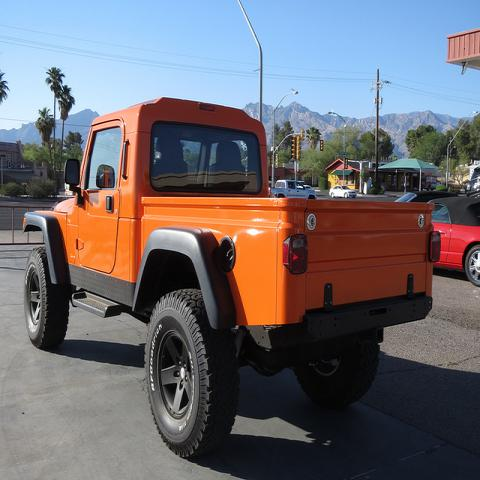car: (428, 196, 480, 287), (274, 178, 319, 197), (396, 191, 458, 203), (329, 185, 357, 199), (466, 175, 480, 197)
truck: (21, 98, 441, 459)
